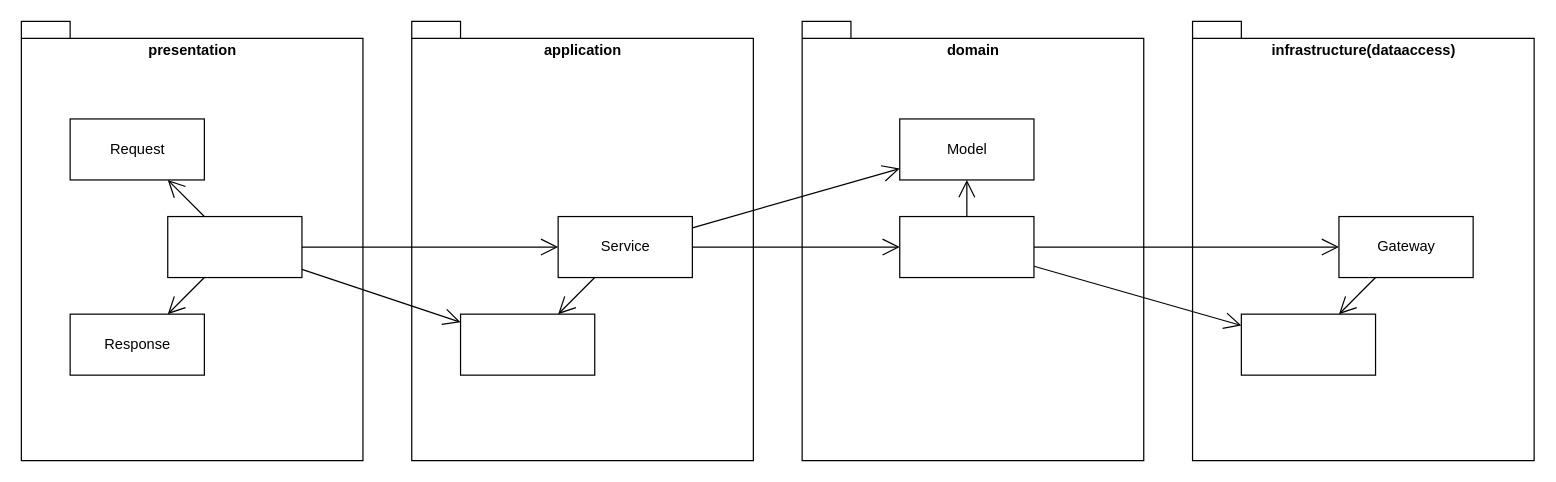
This 1556x482 diagram has some shape labels left out. The centre of each missing label's shape, as x and y in pixels:
Output: the point at 527,344
Record: the point at 1308,344
Repository: the point at 966,246
Router: the point at 234,246
